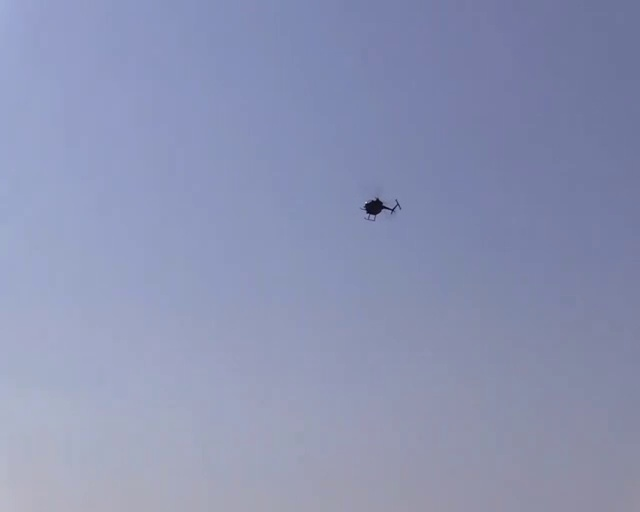HELICOPTER: (360, 193, 401, 221)
